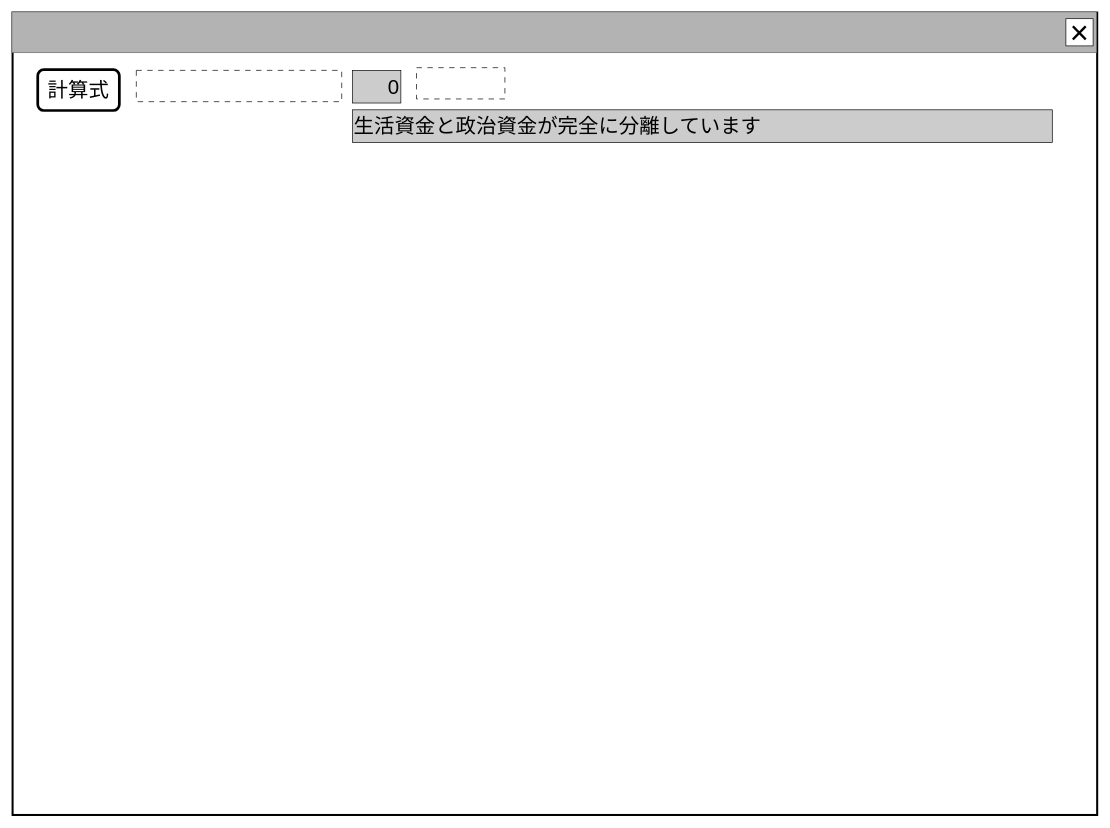
Some shapes in this 1110 by 828 pixel diagram are drawn without their labels. The centre of each missing label's shape, as x and y in pixels:
%です。: the point at 460,83
収支報告除外比率は: the point at 239,86
